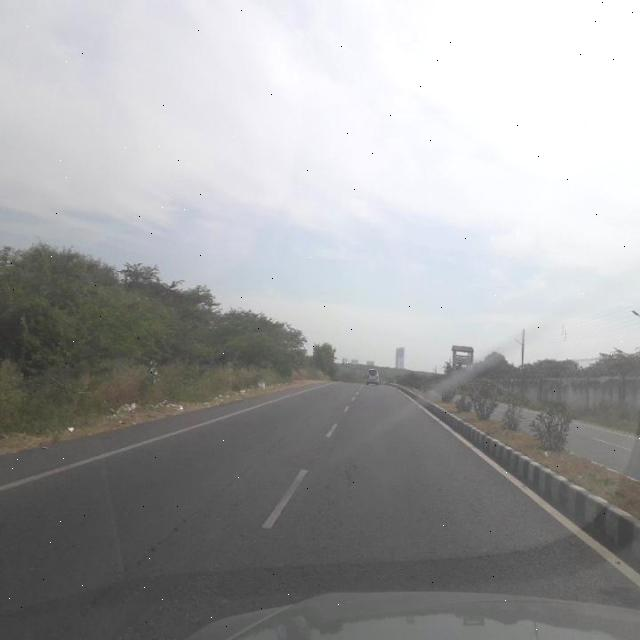D00: (70, 417, 302, 627), (314, 440, 361, 526)
